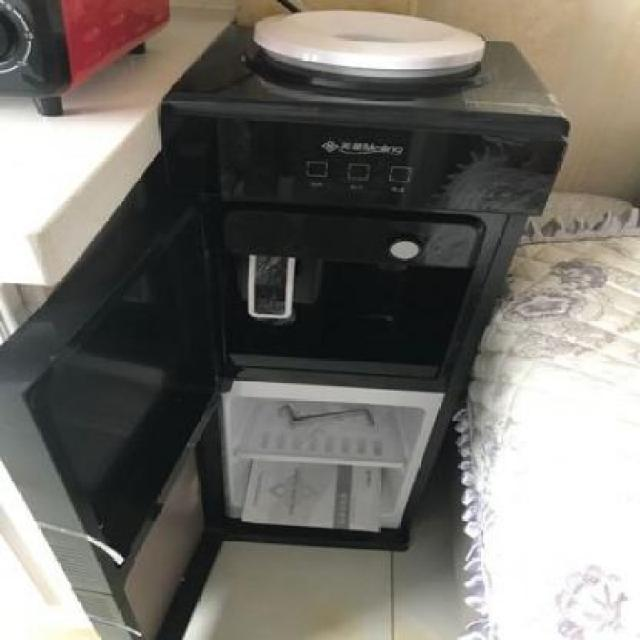cooler: (0, 7, 574, 640)
